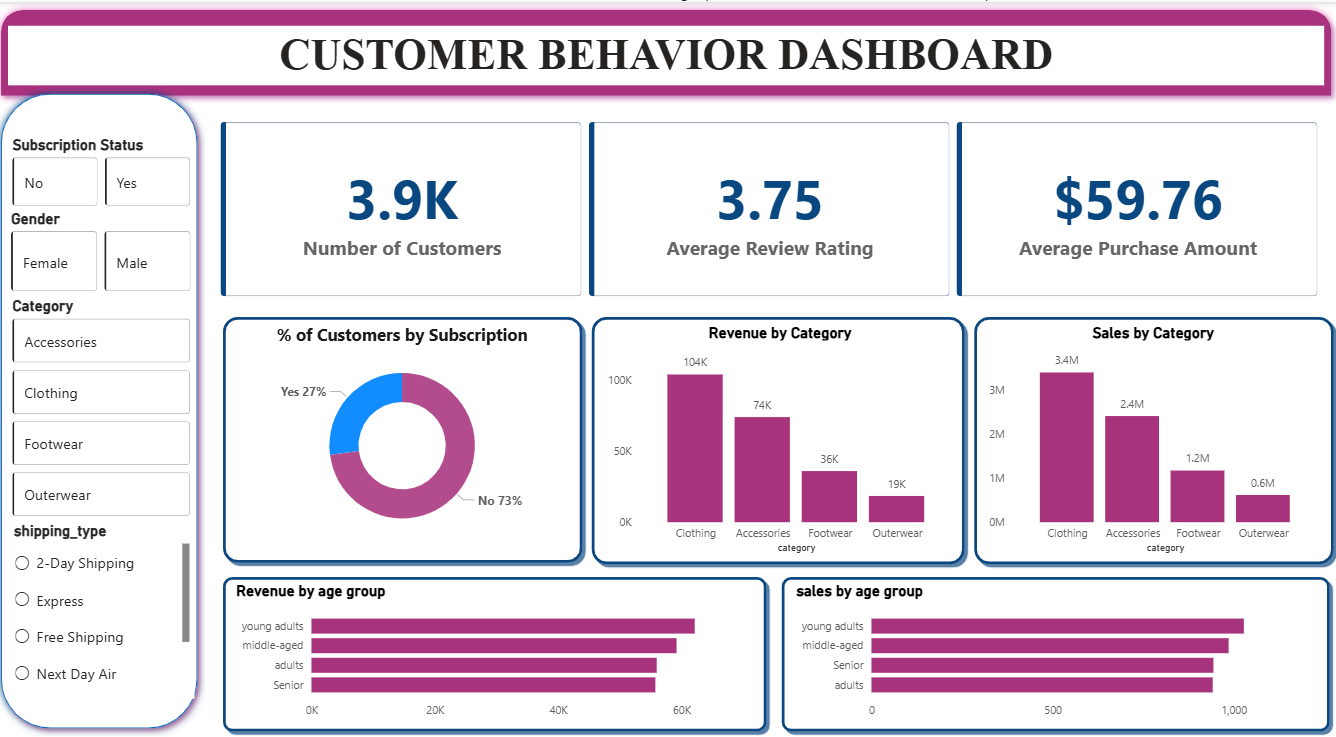

What the dashboard file says about the page in this screenshot:
{"tool":"powerbi","page":{"name":"Page 1","canvas":[1500,820],"ordinal":0},"visuals":[{"type":"cardVisual","fields":{"Data":["public customer.number of customers","public customer.Average Review Rating","public customer.Average purchase amount"]},"box":[236.7,116.7,1258.3,228.3],"z":0},{"type":"shape","box":[0,0,1500,113.3],"z":1000},{"type":"textbox","box":[16.7,26.7,1466.7,66.7],"z":2000},{"type":"shape","box":[250,345,411.7,285],"z":3000},{"type":"donutChart","title":"% of Customers by Subscription ","fields":{"Category":["public customer.subscription_status"],"Y":["CountNonNull(public customer.customer_id)"]},"box":[266.7,358.3,380,248.3],"z":4000},{"type":"shape","box":[661.7,345,426.7,286.7],"z":5000},{"type":"shape","box":[1088.3,345,411.7,286.7],"z":6000},{"type":"clusteredColumnChart","title":"Revenue by Category","fields":{"Y":["Sum(public customer.purchase_amount)"],"Category":["public customer.category"]},"box":[680,358.3,395,261.7],"z":7000},{"type":"clusteredColumnChart","title":"Sales by Category","fields":{"Y":["Sum(public customer.customer_id)"],"Category":["public customer.category"]},"box":[1105,358.3,376.7,261.7],"z":8000},{"type":"shape","box":[0,93.3,236.7,725],"z":9000},{"type":"advancedSlicerVisual","title":"Subscription Status","fields":{"Values":["public customer.subscription_status"]},"box":[16.7,148.3,208.3,83.3],"z":10000},{"type":"advancedSlicerVisual","title":"Gender","fields":{"Values":["public customer.gender"]},"box":[15,231.7,210,96.7],"z":11000},{"type":"advancedSlicerVisual","title":"Category","fields":{"Values":["public customer.category"]},"box":[16.7,328.3,208.3,251.7],"z":12000},{"type":"listSlicer","fields":{"Values":["public customer.shipping_type"]},"box":[18.3,580,206.7,196.7],"z":13000},{"type":"shape","box":[250,635,616.7,183.3],"z":14000},{"type":"shape","box":[873.3,635,621.7,183.3],"z":16000},{"type":"clusteredBarChart","title":"Revenue by age group","fields":{"Y":["Sum(public customer.purchase_amount)"],"Category":["public customer.age_group"]},"box":[266.7,646.7,585,161.7],"z":16500},{"type":"clusteredBarChart","title":"sales by age group","fields":{"Y":["CountNonNull(public customer.customer_id)"],"Category":["public customer.age_group"]},"box":[890,646.7,593.3,161.7],"z":17000}]}

Visuals, with their boxes in screenshot pixels (x1, y1, x2, y2), scaled from the page's 1500x820 canvas onto the 1336x737 screenshot:
cardVisual - public customer.number of customers x public customer.Average Review Rating: select_region(211, 105, 1332, 310)
shape: select_region(0, 0, 1335, 102)
textbox: select_region(15, 24, 1321, 84)
shape: select_region(223, 310, 589, 566)
"% of Customers by Subscription " donutChart: select_region(238, 322, 576, 545)
shape: select_region(589, 310, 969, 568)
shape: select_region(969, 310, 1335, 568)
"Revenue by Category" clusteredColumnChart: select_region(606, 322, 957, 557)
"Sales by Category" clusteredColumnChart: select_region(984, 322, 1320, 557)
shape: select_region(0, 84, 211, 735)
"Subscription Status" advancedSlicerVisual: select_region(15, 133, 200, 208)
"Gender" advancedSlicerVisual: select_region(13, 208, 200, 295)
"Category" advancedSlicerVisual: select_region(15, 295, 200, 521)
listSlicer - public customer.shipping_type: select_region(16, 521, 200, 698)
shape: select_region(223, 571, 772, 735)
shape: select_region(778, 571, 1332, 735)
"Revenue by age group" clusteredBarChart: select_region(238, 581, 759, 727)
"sales by age group" clusteredBarChart: select_region(793, 581, 1321, 727)
